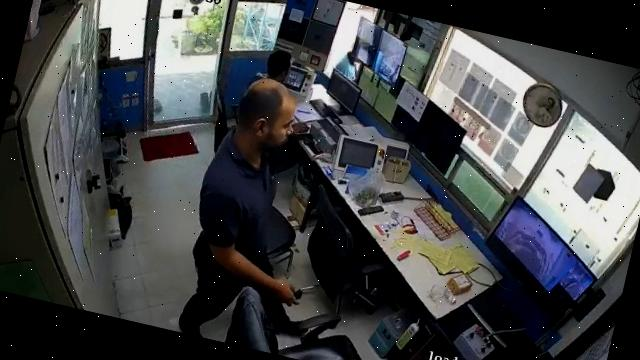Head: (228, 74, 306, 153), (261, 47, 299, 84)
People: (180, 79, 296, 335), (250, 51, 292, 86)
